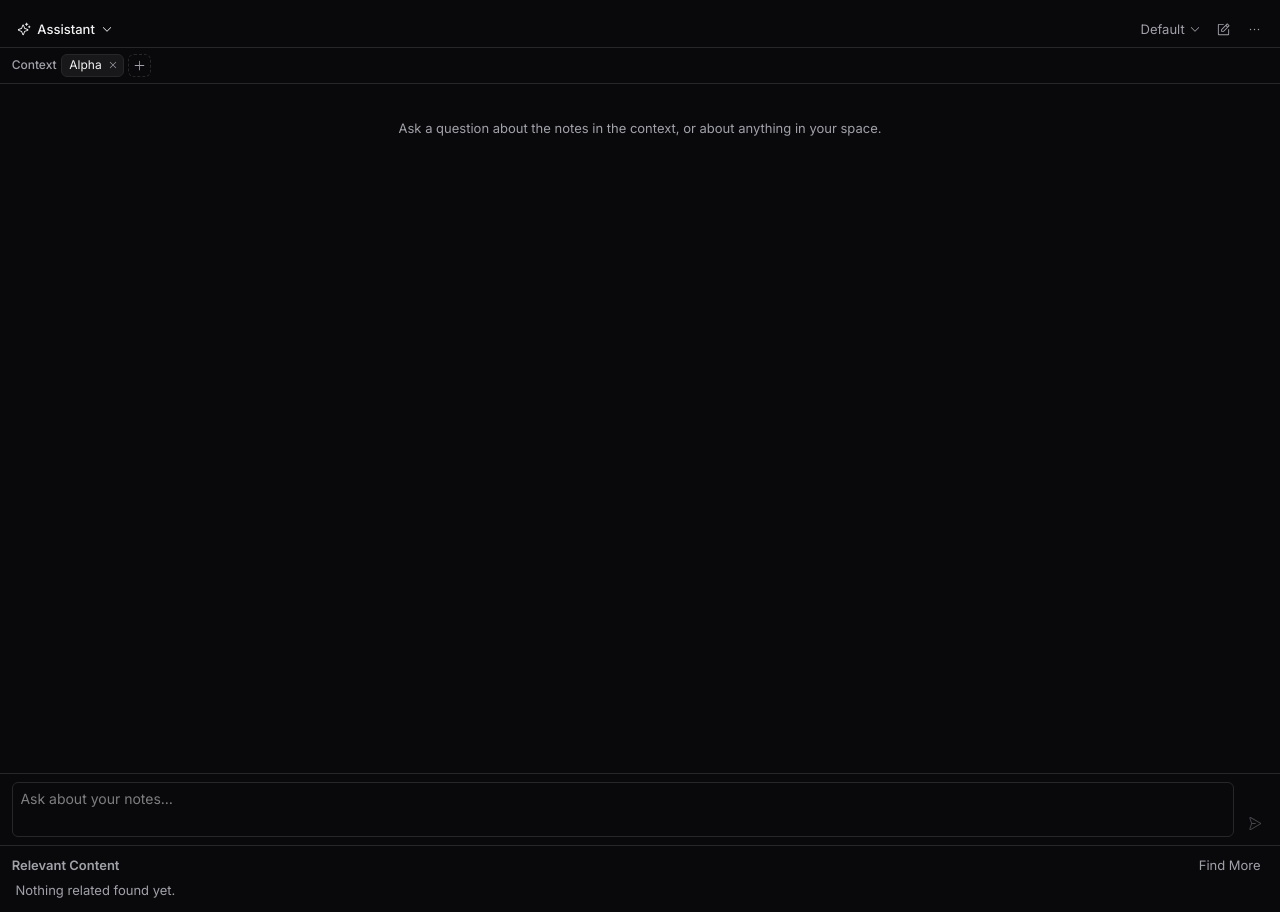
Scenario: AiChatPanel › test an error event shows its message
Step 1. Type "Hi" into the text box named "Message" → (623,809), box [12, 782, 1234, 837]
Then press Enter
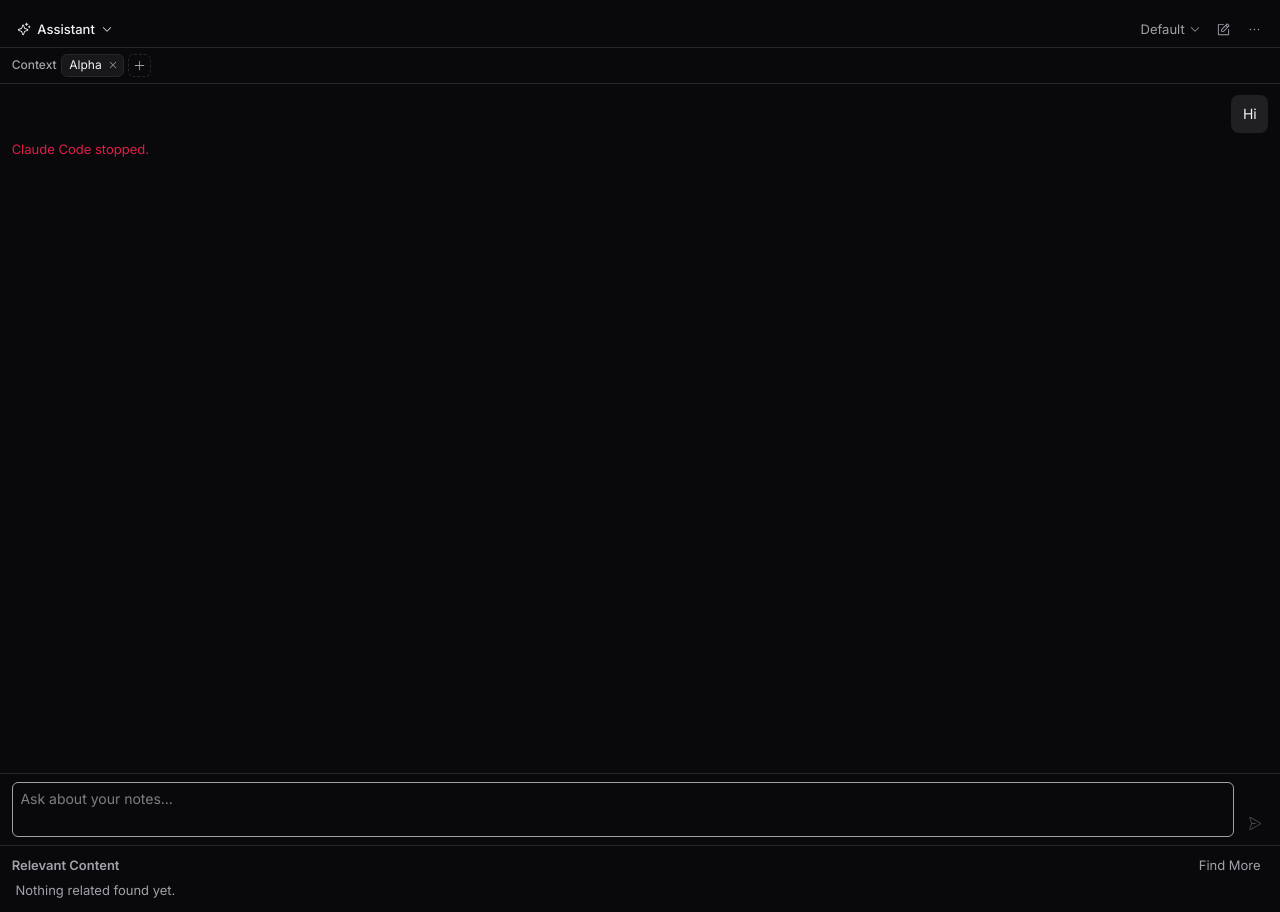
Now the message reads "Claude Code stopped.", box [12, 141, 149, 157]
